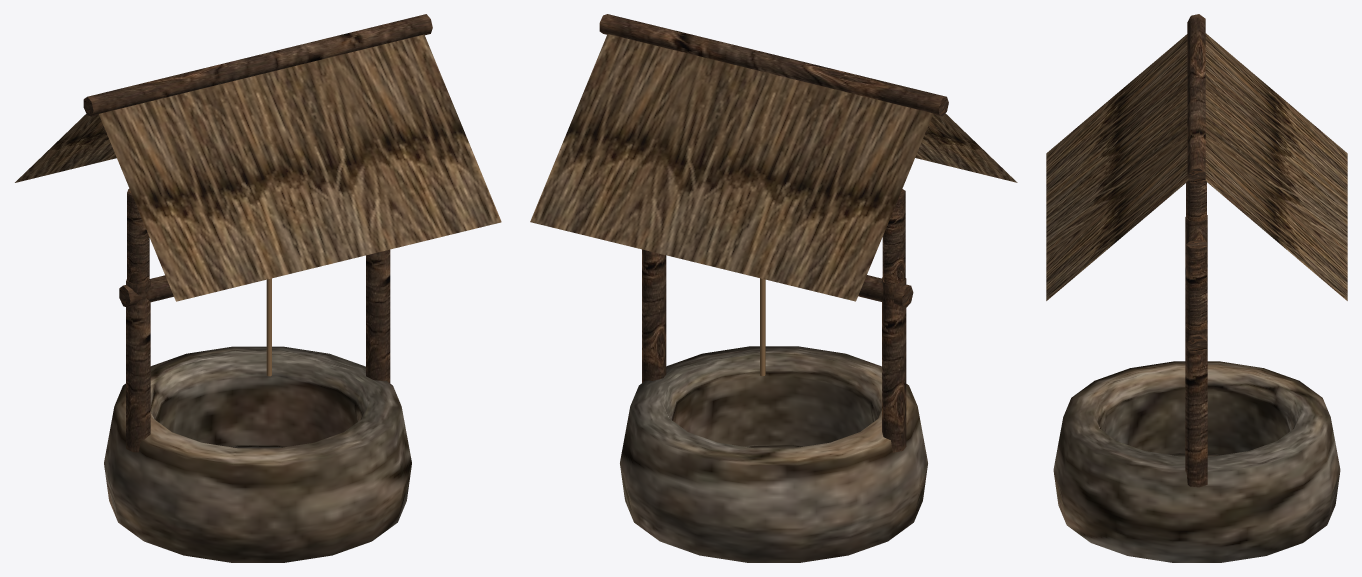
File: wellRoof.glb
3 renders of one model, left to right at view 1: azimuth 30°, elevation 25°; view 2: azimuth 150°, elevation 25°; view 3: azimuth 270°, elevation 25°, orthographic. The views are drawn at different scales.
Parts seen in each view (by area): view 1: part_4, part_0, part_2; view 2: part_4, part_0, part_2; view 3: part_0, part_4, part_2.
Part boxes in pixels (x1,y1,x2,y2): part_4: (15, 34, 501, 301); part_0: (104, 346, 411, 562); part_2: (83, 14, 432, 452); part_4: (530, 34, 1017, 301); part_0: (620, 346, 927, 562); part_2: (599, 14, 948, 452); part_0: (1053, 361, 1340, 562); part_4: (1046, 33, 1347, 300); part_2: (1185, 14, 1207, 487).
Bounding box in the file's own units: 1.5 × 1.88 × 1.24.
Materials: 5 (3 with a texture image).
